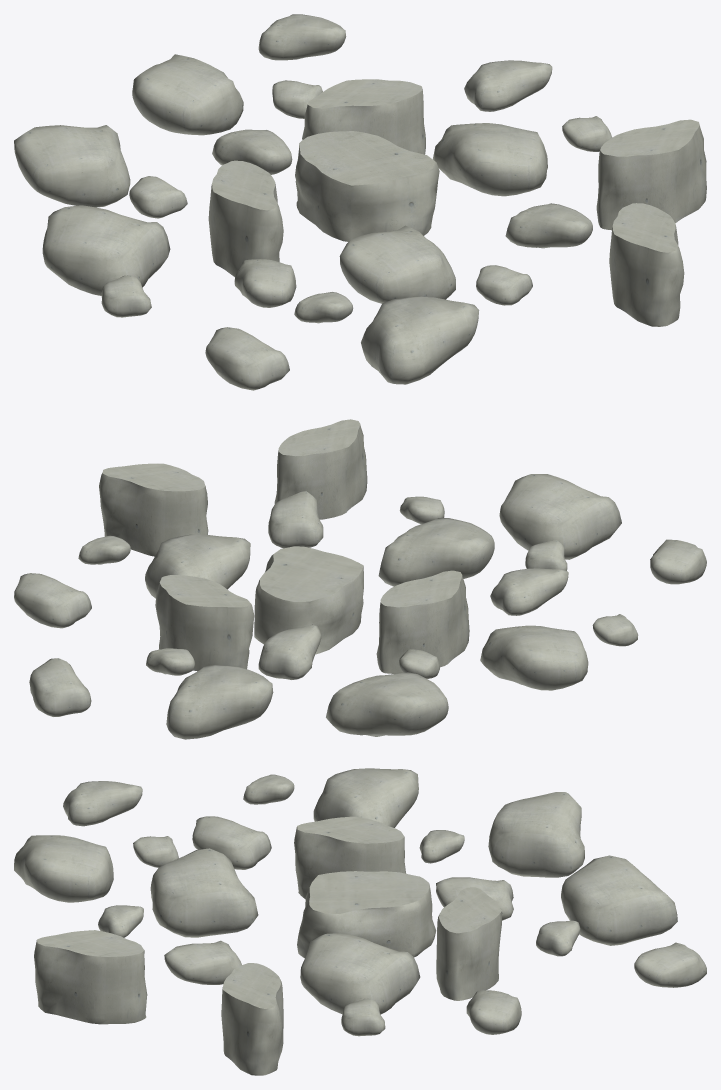
The model's file is asset.glb.
3 views of the same model, one above another, from view 1: azimuth 30°, elevation 25°; view 2: azimuth 150°, elevation 25°; view 3: azimuth 270°, elevation 25° (orthographic). The views are drawn at different scales.
Visible parts, largest first — view 1: Box001, Box004.005, Box004.003, Box004, Box004.002, Box004.001, Box004.004, Box002.002, Box002.003, Box002.001, Box002; view 2: Box004.005, Box004, Box004.004, Box004.003, Box004.002, Box001, Box004.001, Box002.002, Box002, Box002.001, Box002.003; view 3: Box004.004, Box004.002, Box004.001, Box004, Box002.003, Box004.005, Box001, Box004.003, Box002, Box002.002, Box002.001.
Boxes of the visible parts, <box> form: Box001: <box>295,131,439,241</box>; Box004.005: <box>205,292,479,390</box>; Box004.003: <box>42,205,296,317</box>; Box004: <box>14,125,292,218</box>; Box004.002: <box>339,203,592,305</box>; Box004.001: <box>433,60,612,196</box>; Box004.004: <box>132,14,346,135</box>; Box002.002: <box>596,119,706,230</box>; Box002.003: <box>609,203,684,326</box>; Box002.001: <box>208,160,283,276</box>; Box002: <box>302,79,425,154</box>; Box004.005: <box>499,474,706,584</box>; Box004: <box>258,624,448,736</box>; Box004.004: <box>29,648,273,739</box>; Box004.003: <box>480,568,638,690</box>; Box004.002: <box>268,491,494,586</box>; Box001: <box>254,546,363,654</box>; Box004.001: <box>14,534,250,628</box>; Box002.002: <box>99,463,208,556</box>; Box002: <box>155,575,254,671</box>; Box002.001: <box>376,570,469,673</box>; Box002.003: <box>274,419,367,519</box>; Box004.004: <box>536,855,706,987</box>; Box004.002: <box>98,848,258,984</box>; Box004.001: <box>300,933,521,1036</box>; Box004: <box>419,792,584,920</box>; Box002.003: <box>34,930,147,1024</box>; Box004.005: <box>14,781,178,902</box>; Box001: <box>297,871,436,958</box>; Box004.003: <box>192,768,418,869</box>; Box002: <box>436,887,501,1000</box>; Box002.002: <box>221,963,283,1075</box>; Box002.001: <box>294,816,406,899</box>.
Bounding box in the file's own units: 6.27 × 0.7415 × 6.97.
1 material, 1 textured.
